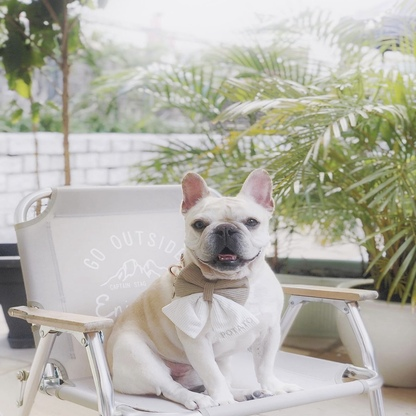bulldog: (101, 166, 287, 412)
